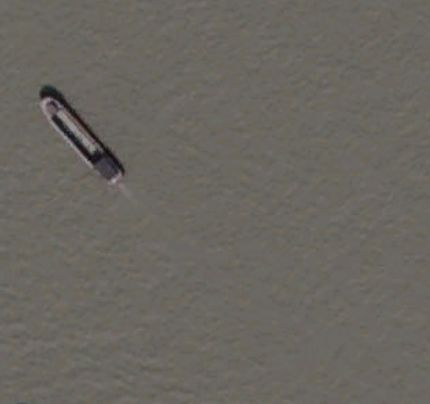boat: (37, 91, 125, 185)
